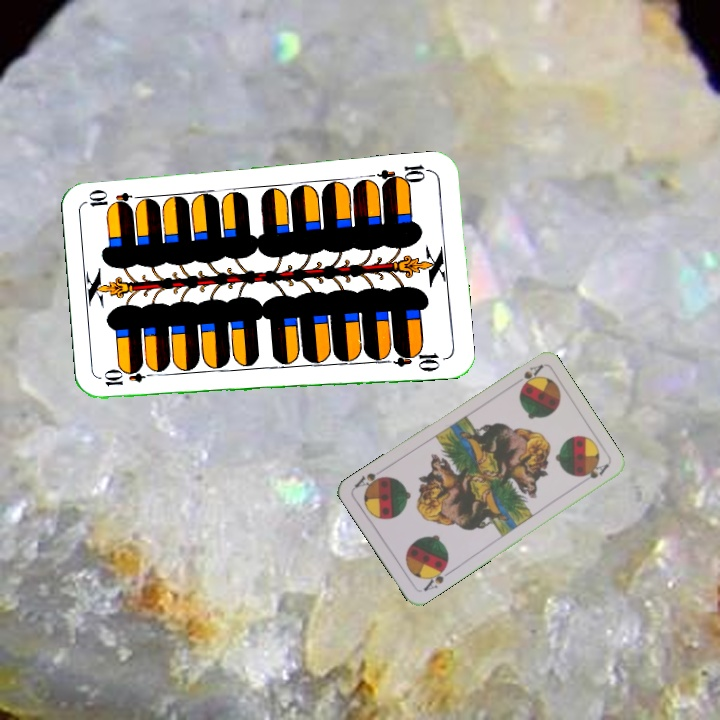E10: (374, 160, 434, 189), (100, 367, 159, 389)
SA: (419, 561, 454, 594), (509, 361, 545, 390)
